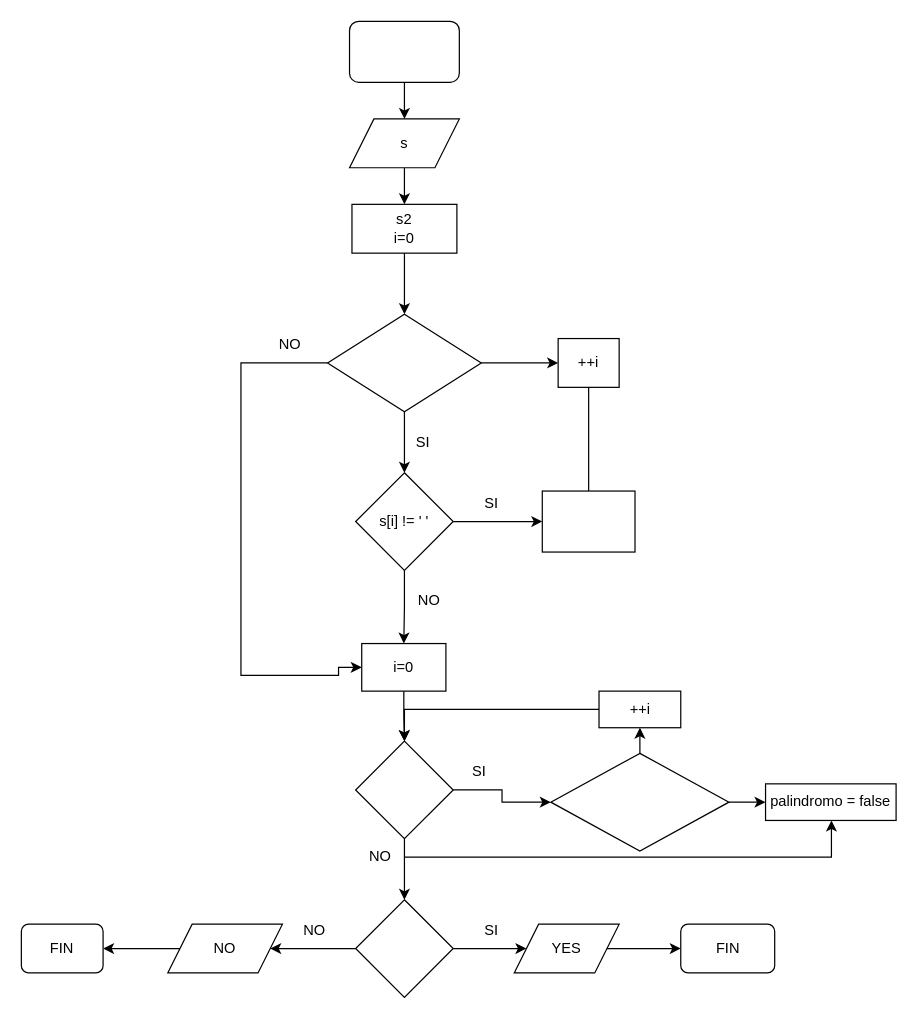
This 917x1019 diagram has some shape labels left out. The box of each missing label's shape, as (x1, y1, x2, y2) in pixels:
i<s2.size: (354, 740, 453, 839)
INICIO: (348, 20, 459, 82)
palindromo: (354, 899, 453, 997)
s.size -1 >= i ?: (326, 313, 481, 412)
s2 += s[i]: (541, 490, 635, 552)
s2[i]==s2[s2.size()-1-i]: (550, 752, 729, 851)
